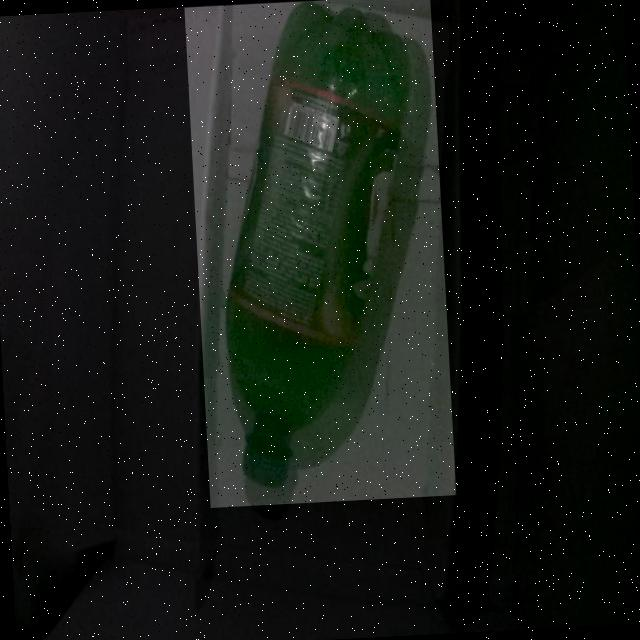bottle: (184, 0, 456, 508)
cap: (236, 438, 305, 496)
label: (216, 95, 422, 317)
